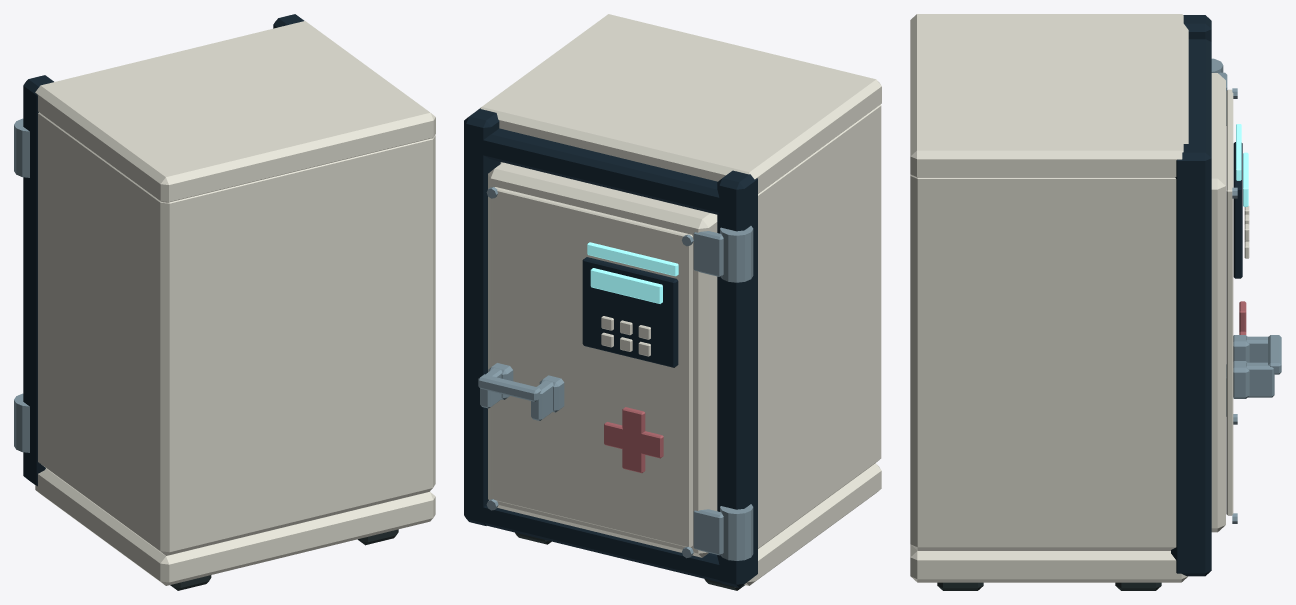
The model's file is cold_chain_medical_cabinet.glb.
3 views of the same model, side by side, from view 1: azimuth 30°, elevation 25°; view 2: azimuth 150°, elevation 25°; view 3: azimuth 270°, elevation 25° (orthographic). The views are drawn at different scales.
Parts seen in each view (by area): view 1: body_back_wall, body_left_wall, body_roof, body_floor, front_frame, body_right_wall, hinge_pin (×2); view 2: moving_front_inset, body_left_wall, body_roof, front_frame (×4), moving_door, moving_control_panel, body_floor, body_back_wall, hinge_pin (×2), moving_hinge_leaf (×2), moving_lcd, moving_med_cross_v (+4 smaller); view 3: body_right_wall, body_roof, front_frame (×3), body_floor, moving_door, body_back_wall, moving_front_inset, moving_control_panel, moving_handle_right, moving_handle_mount_r, moving_handle_left, moving_handle_bar.
Part boxes in pixels (x1,y1,x2,y2): body_back_wall: (149,138,432,554); body_left_wall: (38,112,187,555); body_roof: (35,21,435,202); body_floor: (35,468,435,585); front_frame: (23,75,53,486); body_right_wall: (415,135,435,487); hinge_pin (×2): (14,118,29,452); moving_front_inset: (492,187,692,547); body_left_wall: (758,104,881,548); body_roof: (478,14,881,193); front_frame (×4): (464,108,757,587); moving_door: (488,162,717,557); moving_control_panel: (582,257,678,367); body_floor: (744,463,881,585); body_back_wall: (868,105,881,468); hinge_pin (×2): (720,226,753,560); moving_hinge_leaf (×2): (693,231,723,555); moving_lcd: (590,268,662,303); moving_med_cross_v: (622,407,645,473); body_right_wall: (910,175,1176,550); body_roof: (910,14,1188,177); front_frame (×3): (1171,15,1211,576); body_floor: (910,544,1187,582); moving_door: (1211,73,1225,532); body_back_wall: (910,174,939,550); moving_front_inset: (1226,89,1233,515); moving_control_panel: (1233,142,1242,278); moving_handle_right: (1246,362,1274,397); moving_handle_mount_r: (1233,361,1249,398); moving_handle_left: (1246,336,1267,362); moving_handle_bar: (1268,335,1281,374).
Size of the model in its own units: 0.8965 by 1.29 by 0.9605.
